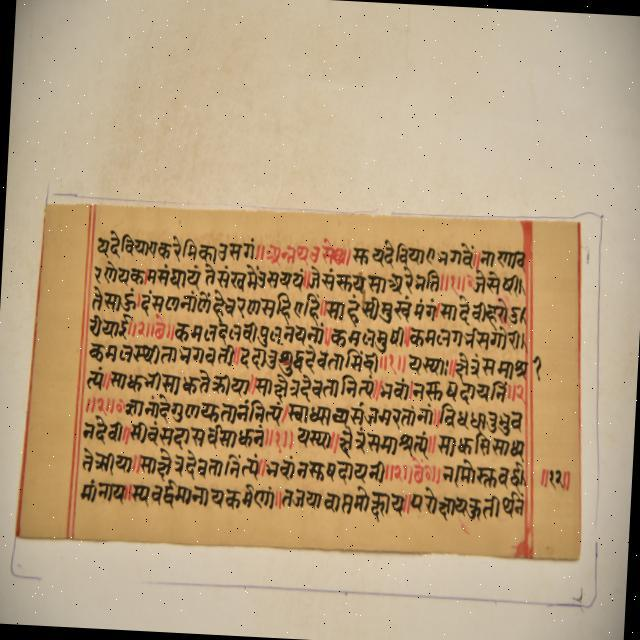text_paragraph: (12, 202, 580, 557)
